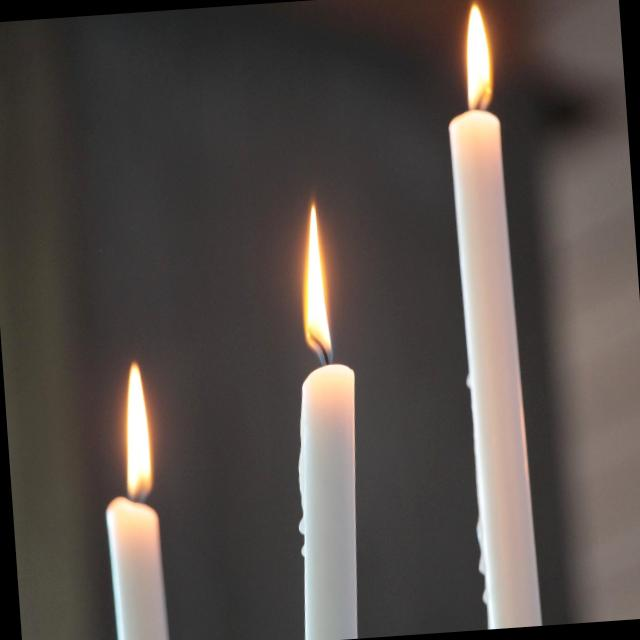Fire_Save: (438, 0, 541, 627), (273, 198, 373, 640), (94, 359, 170, 640)
